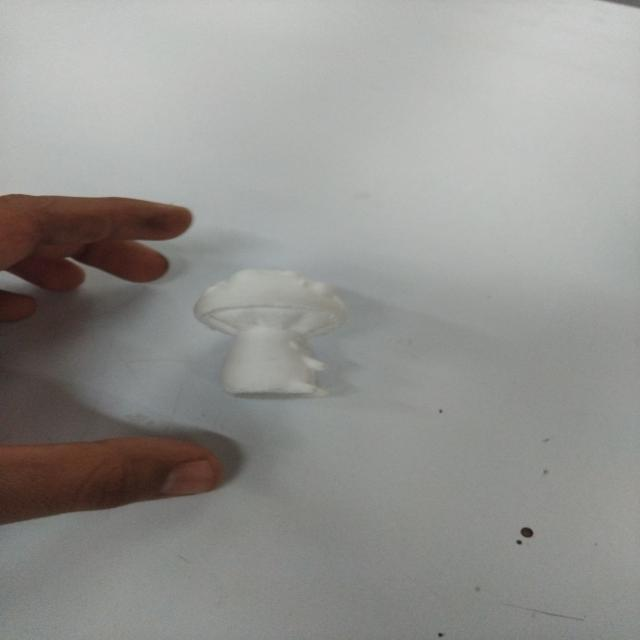Hongo: (184, 267, 366, 403)
